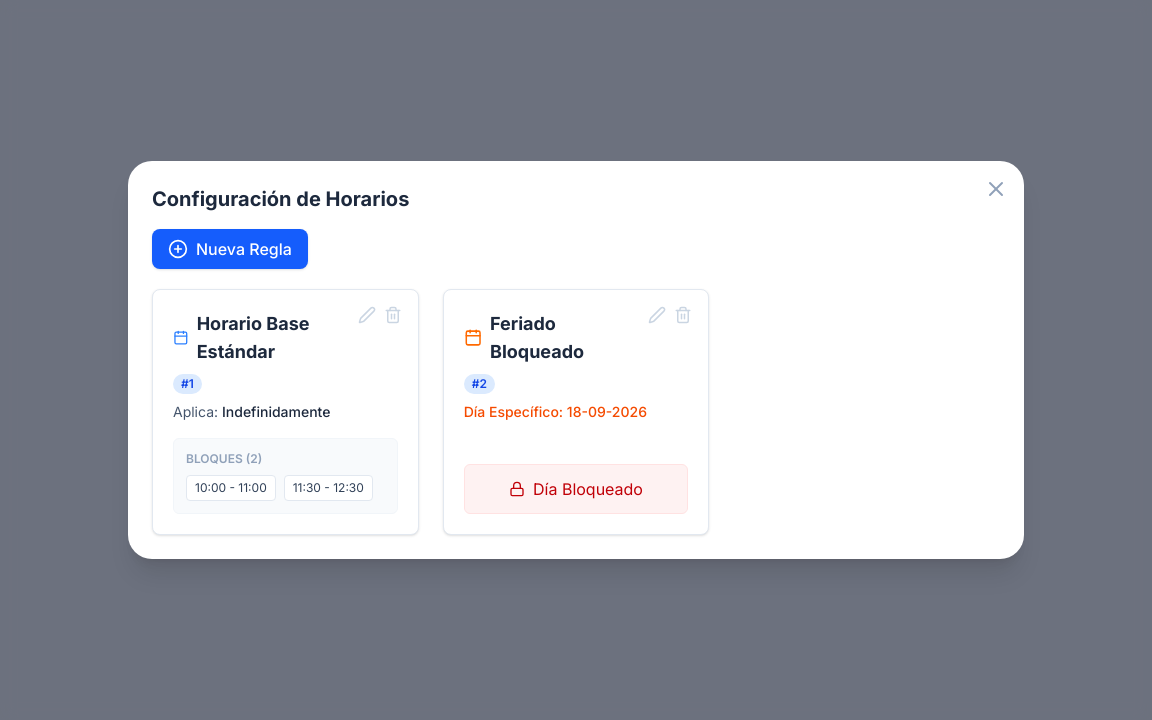
Scenario: Modal de Configuración de Horarios (dentro de /calendario) - Pruebas Unitarias y de Componente › 7. Eliminar muestra confirmación de archivado conservando historial
The width and height of the screenshot is (1152, 720).
Expected: the heading "Horario Base Estándar" is shown, 197,313 -> 310,362
Click the button named "Eliminar regla" next to "Horario Base Estándar": (393, 315) 384,306 -> 402,324
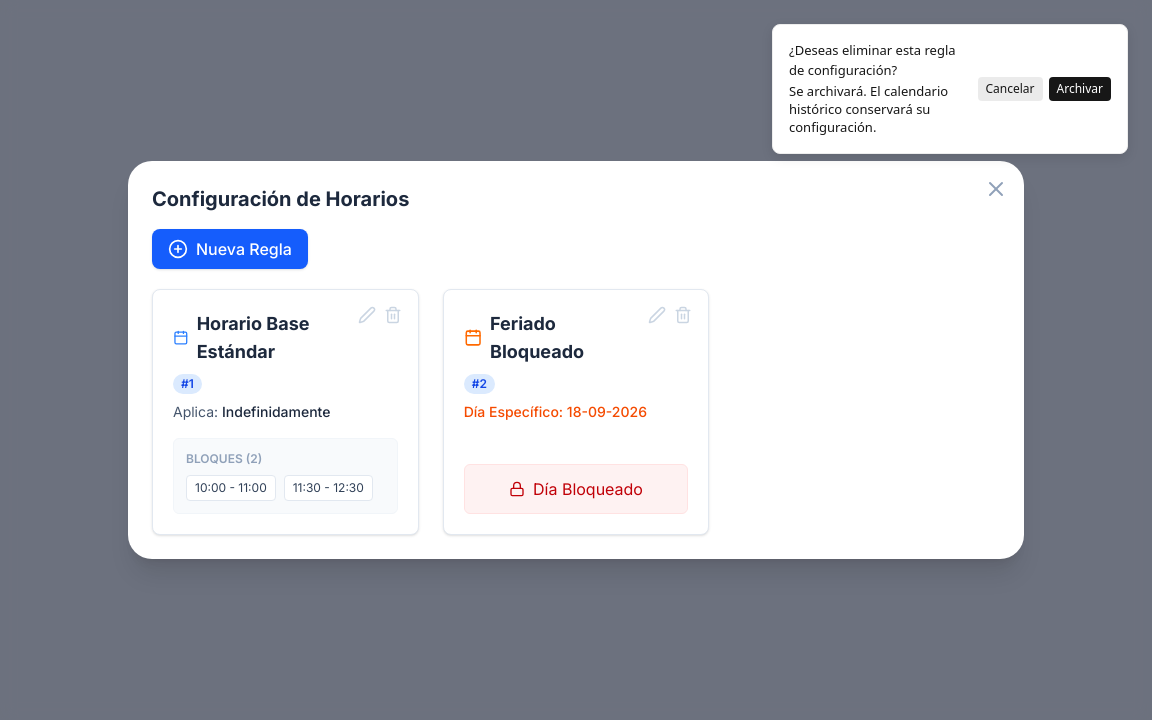
Expected: the text "Se archivará. El calendario histórico conservará su configuración." is shown, 789,82 -> 972,137
